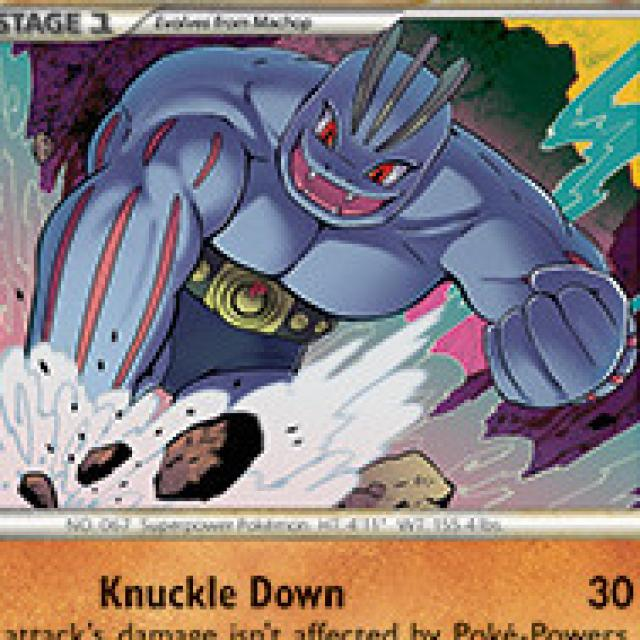Machoke: (35, 31, 512, 410)
